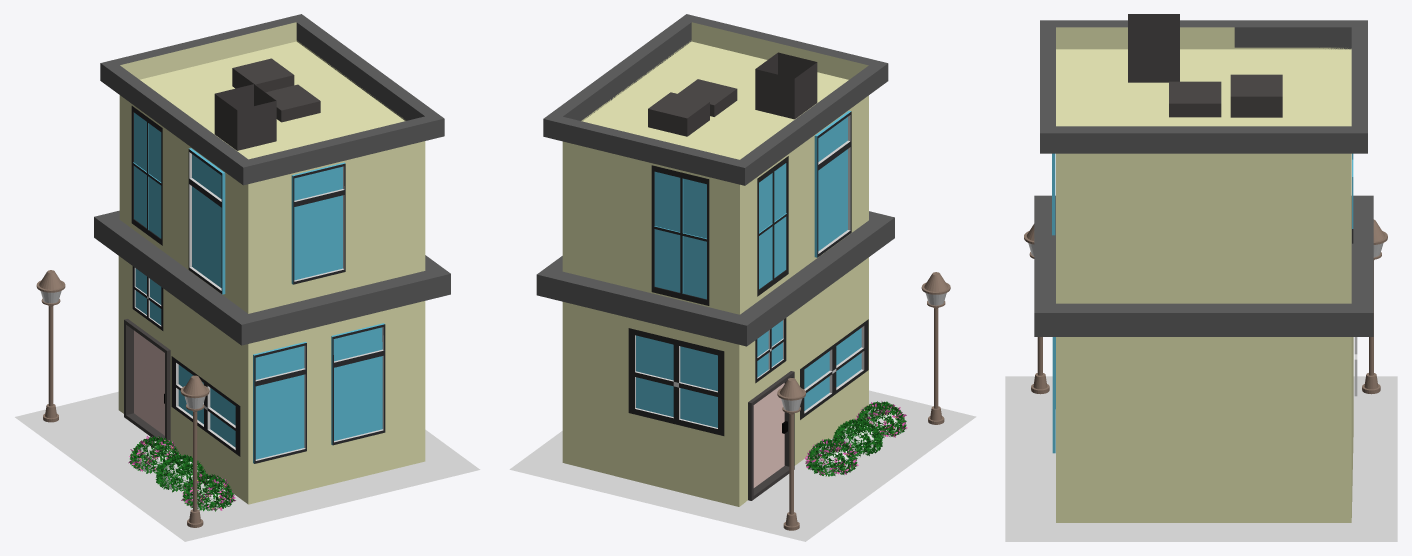
File: Apartment.fbx
3 views of the same model, side by side, from view 1: azimuth 30°, elevation 25°; view 2: azimuth 150°, elevation 25°; view 3: azimuth 270°, elevation 25° (orthographic). The views are drawn at different scales.
Visible parts, largest first — view 1: Cube, Plane.012, Plane.008, Plane.010, Plane.009, Plane.011, Plane.004, Plane.007, Circle, Plane.002, Plane, Plane.003 (+1 smaller); view 2: Cube, Plane.012, Plane.006, Plane.005, Plane.011, Plane.004, Plane.002, Plane.007, Circle, Plane, Plane.003, Plane.001; view 3: Cube, Plane.012, Plane.007, Plane, Plane.001, Circle.
Boxes of the visible parts, x1=… form: Cube: x1=94, y1=14, x2=450, y2=504; Plane.012: x1=15, y1=391, x2=480, y2=541; Plane.008: x1=291, y1=162, x2=345, y2=284; Plane.010: x1=331, y1=323, x2=385, y2=445; Plane.009: x1=253, y1=342, x2=306, y2=463; Plane.011: x1=188, y1=148, x2=225, y2=294; Plane.004: x1=131, y1=106, x2=162, y2=245; Plane.007: x1=214, y1=84, x2=276, y2=150; Circle: x1=36, y1=270, x2=209, y2=527; Plane.002: x1=171, y1=356, x2=240, y2=456; Plane: x1=232, y1=58, x2=294, y2=92; Plane.003: x1=132, y1=266, x2=163, y2=330; Cube: x1=536, y1=14, x2=894, y2=506; Plane.012: x1=509, y1=390, x2=976, y2=541; Plane.006: x1=628, y1=328, x2=724, y2=435; Plane.005: x1=651, y1=165, x2=709, y2=305; Plane.011: x1=814, y1=111, x2=851, y2=257; Plane.004: x1=757, y1=156, x2=788, y2=296; Plane.002: x1=800, y1=319, x2=868, y2=419; Plane.007: x1=755, y1=52, x2=817, y2=119; Circle: x1=777, y1=272, x2=950, y2=530; Plane: x1=648, y1=92, x2=709, y2=136; Plane.003: x1=755, y1=318, x2=786, y2=383; Plane.001: x1=678, y1=79, x2=737, y2=116; Cube: x1=1034, y1=20, x2=1373, y2=522; Plane.012: x1=1005, y1=376, x2=1397, y2=541; Plane.007: x1=1128, y1=14, x2=1179, y2=82; Plane: x1=1230, y1=74, x2=1282, y2=117; Plane.001: x1=1169, y1=81, x2=1221, y2=117; Circle: x1=1024, y1=219, x2=1387, y2=394.
Size of the model in its own units: 1506 by 1798 by 1506.
